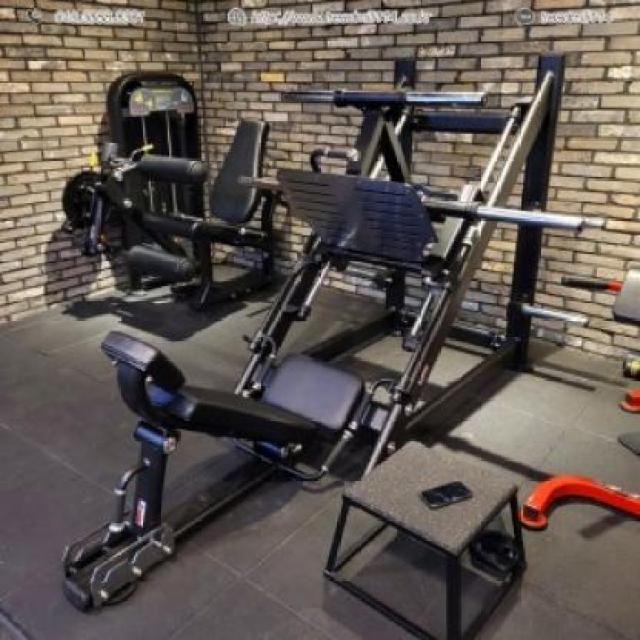leg press: (53, 41, 602, 622)
